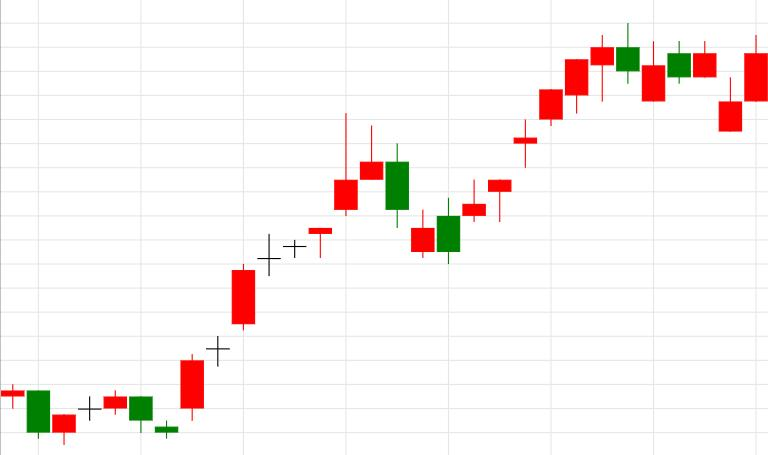shooting_star_fall: (180, 113, 358, 421)
